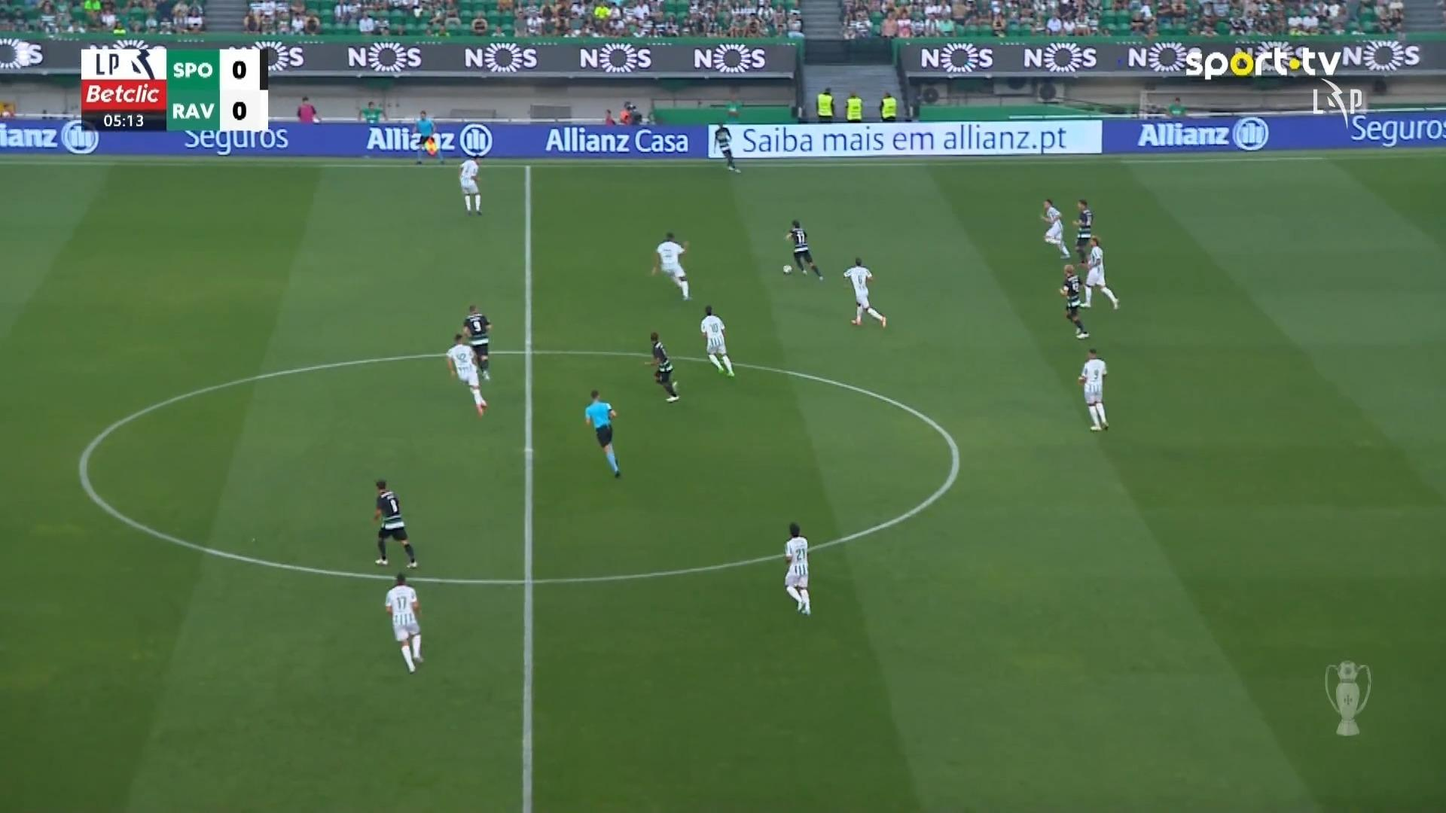ball: (782, 264, 792, 274)
player: (371, 479, 418, 568), (383, 572, 424, 673), (445, 332, 488, 416), (842, 256, 886, 328), (649, 230, 691, 300), (1080, 234, 1119, 309), (782, 521, 812, 615), (1078, 347, 1109, 431), (700, 304, 735, 377), (461, 303, 493, 382), (784, 218, 823, 281), (1058, 263, 1089, 339), (648, 330, 679, 402), (1039, 197, 1069, 259), (458, 154, 484, 215), (1072, 197, 1094, 265), (713, 122, 741, 173)
referee: (584, 388, 621, 478), (410, 108, 438, 164)
